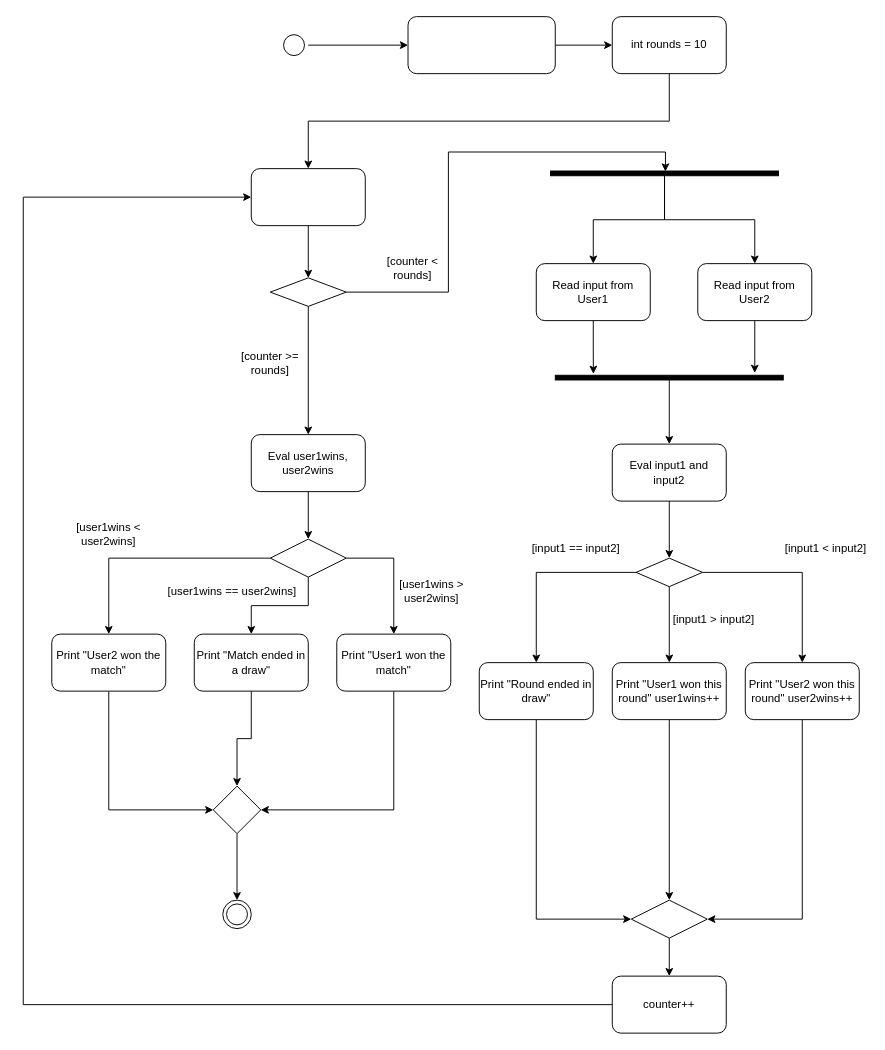
Image size: 885x1050. Some labels were removed from this diagram. Each missing label, with the centre of its shape:
counter = 0, user1wins = 0, user2wins = 0: the point at 481,45
Eval counter: the point at 307,197
